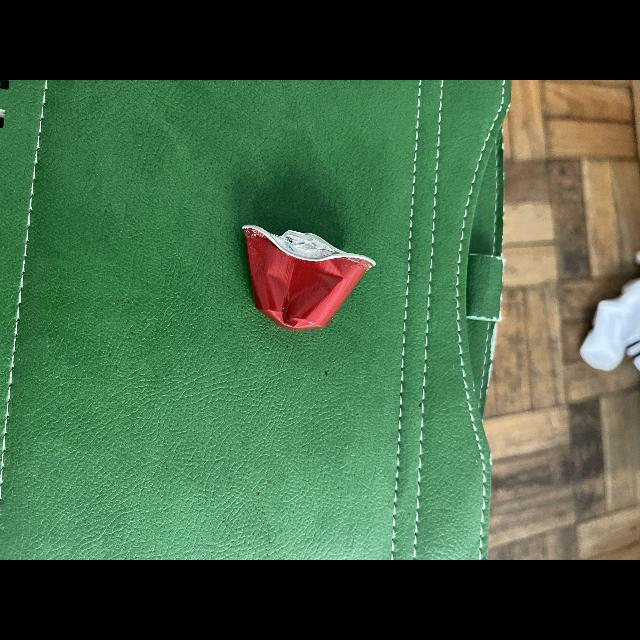damaged_capsule: (238, 222, 390, 338)
